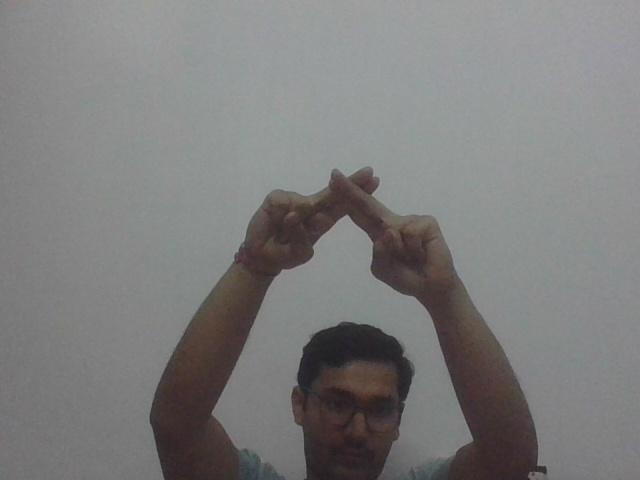F: (244, 163, 460, 303)
